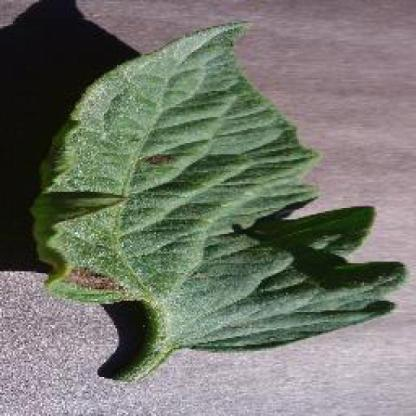Tomato_Blight: (31, 22, 408, 351)
